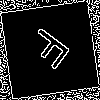F: (25, 25, 80, 77)
